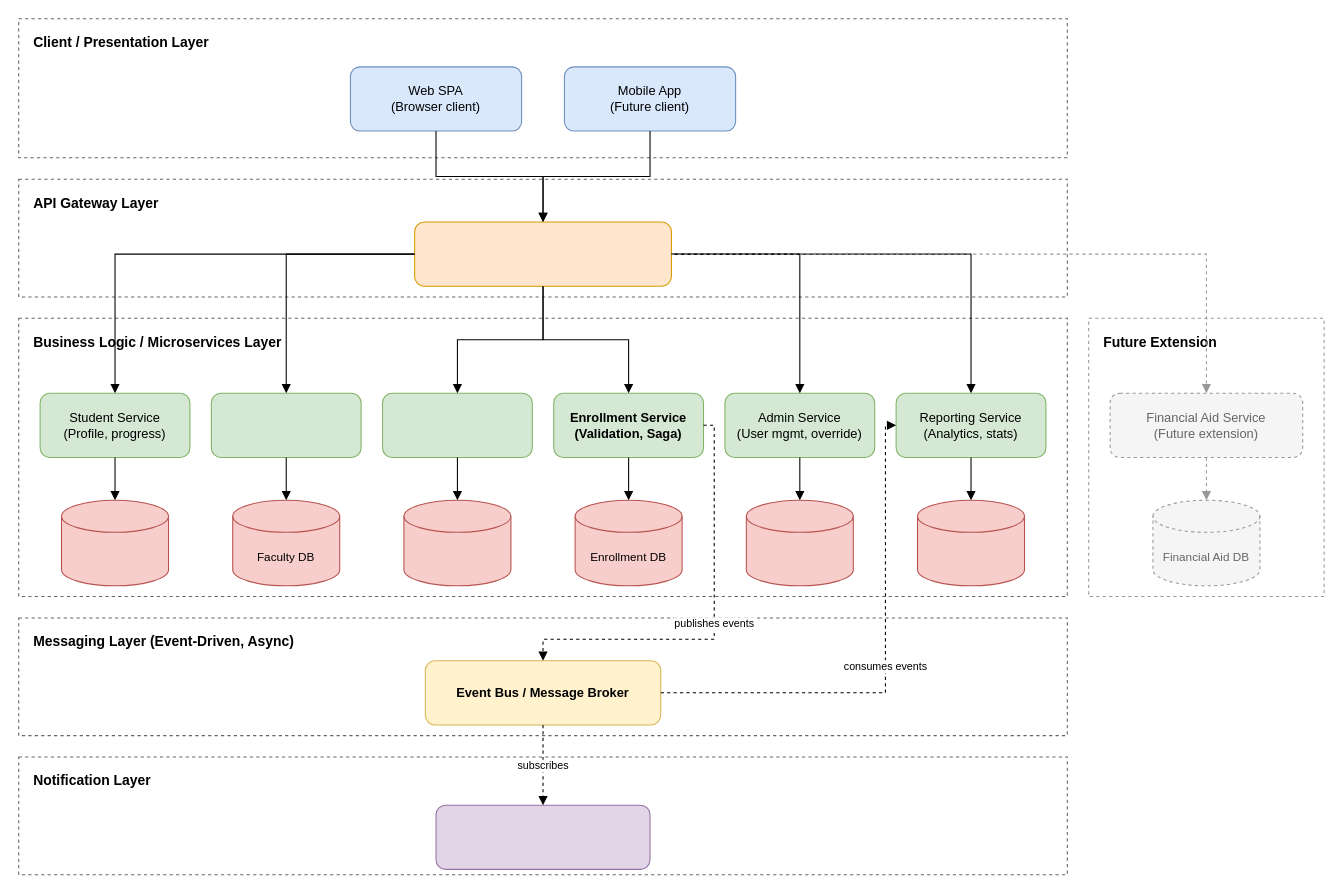
Image size: 1343x893. Some labels were removed from this diagram. Here are the shapes that lost their labels. From the top down, the centre of each, then its label:
At (542,253): "API Gateway (Routing, Auth, Rate limiting)".
At (285,424): "Faculty Service (Roster, grades)".
At (456,424): "Catalogue Service (Course search, seats)".
At (114,542): "Student DB".
At (457,542): "Catalogue DB".
At (799,542): "Admin DB".
At (970,542): "Reporting DB".
At (542,836): "Notification Service (Email, alerts)".
